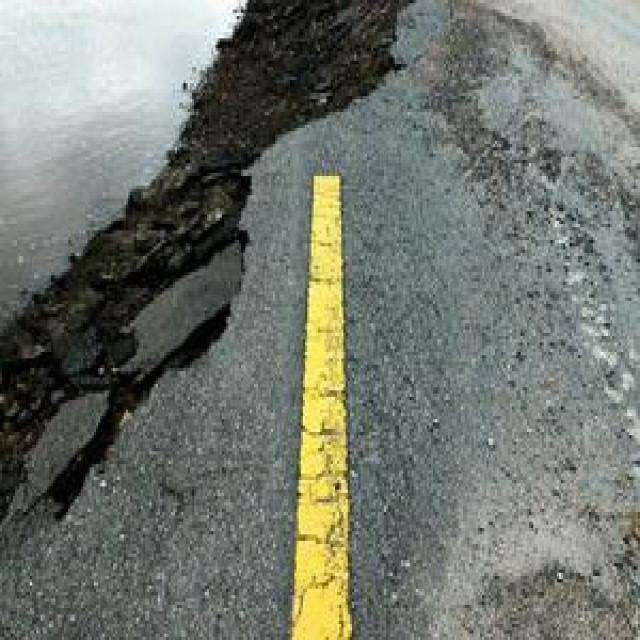road collapse: (0, 0, 527, 612)
